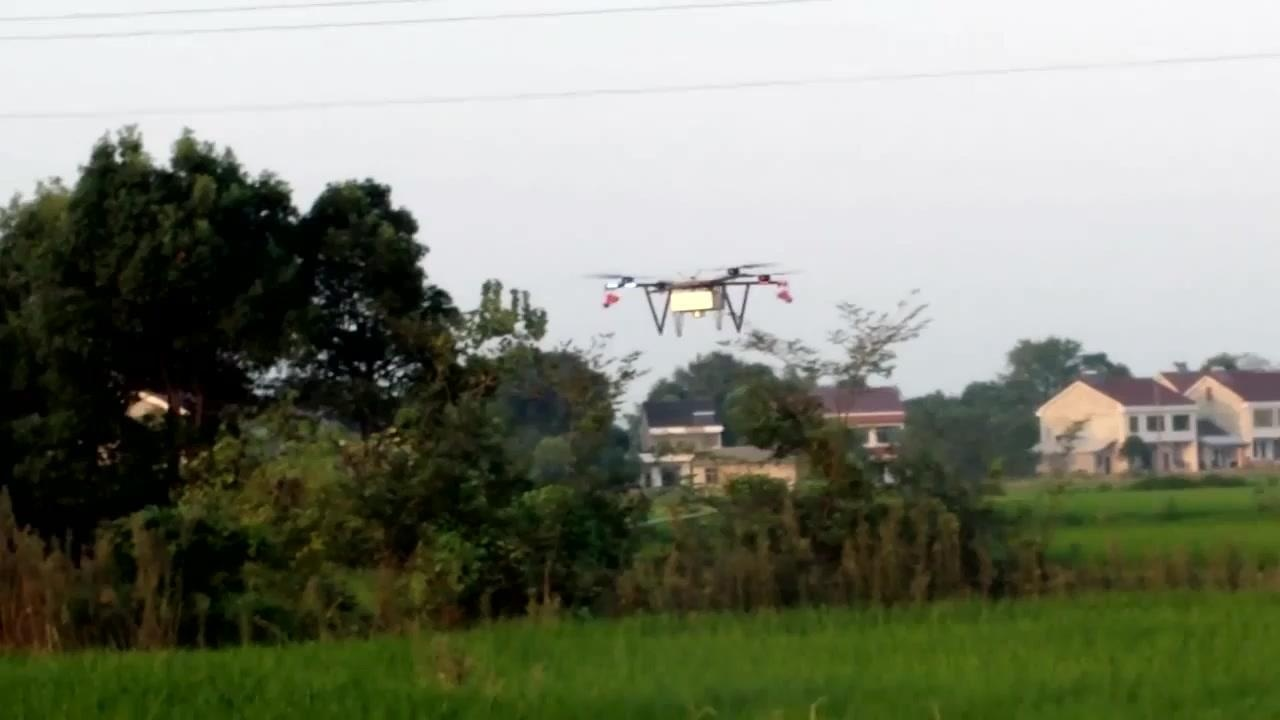UAV: (587, 263, 799, 340)
